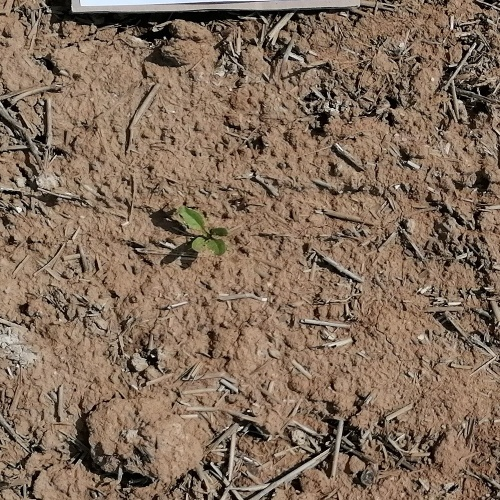beet: (177, 206, 229, 256)
